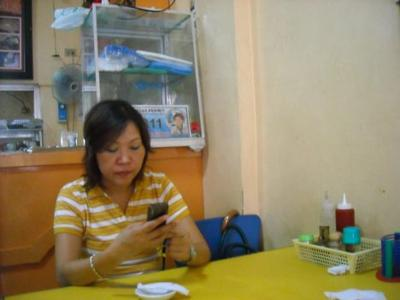person: (54, 98, 212, 288)
